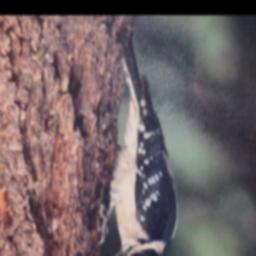Woodpecker: (90, 31, 182, 256)
